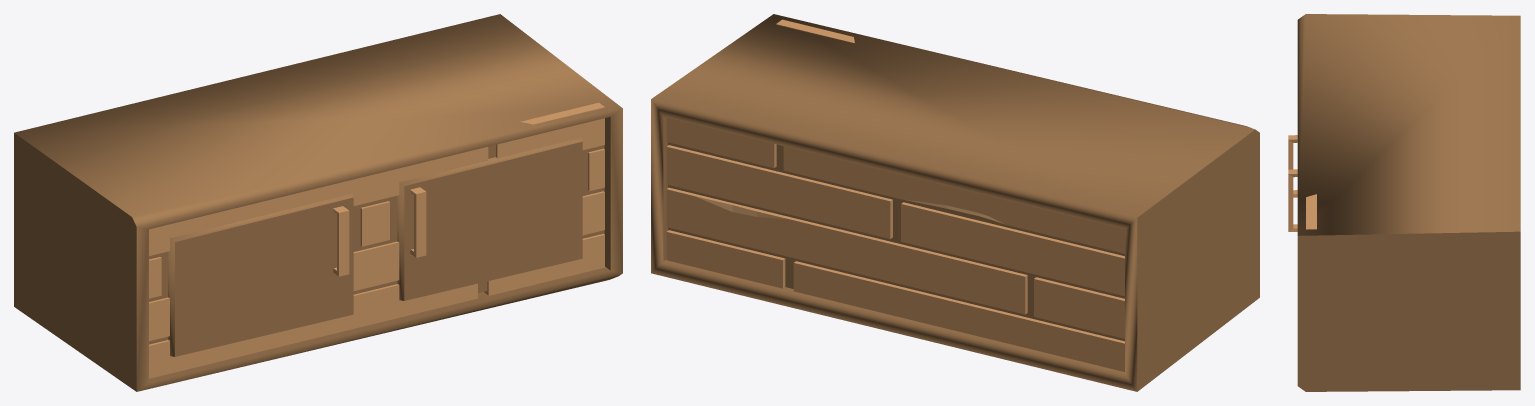
File: cc0-cabinet-doors-lod1.glb
3 renders of one model, left to right at view 1: azimuth 30°, elevation 25°; view 2: azimuth 150°, elevation 25°; view 3: azimuth 270°, elevation 25°, orthographic. The views are drawn at different scales.
Visible parts, largest first — view 1: part_0; view 2: part_0; view 3: part_0.
Part boxes in pixels (bbox=[...]): part_0: bbox=[14, 14, 622, 391]; part_0: bbox=[651, 14, 1259, 391]; part_0: bbox=[1288, 14, 1520, 391].
Size of the model in its own units: 4 by 1.4 by 1.82.
Materials: 1 (1 with a texture image).
